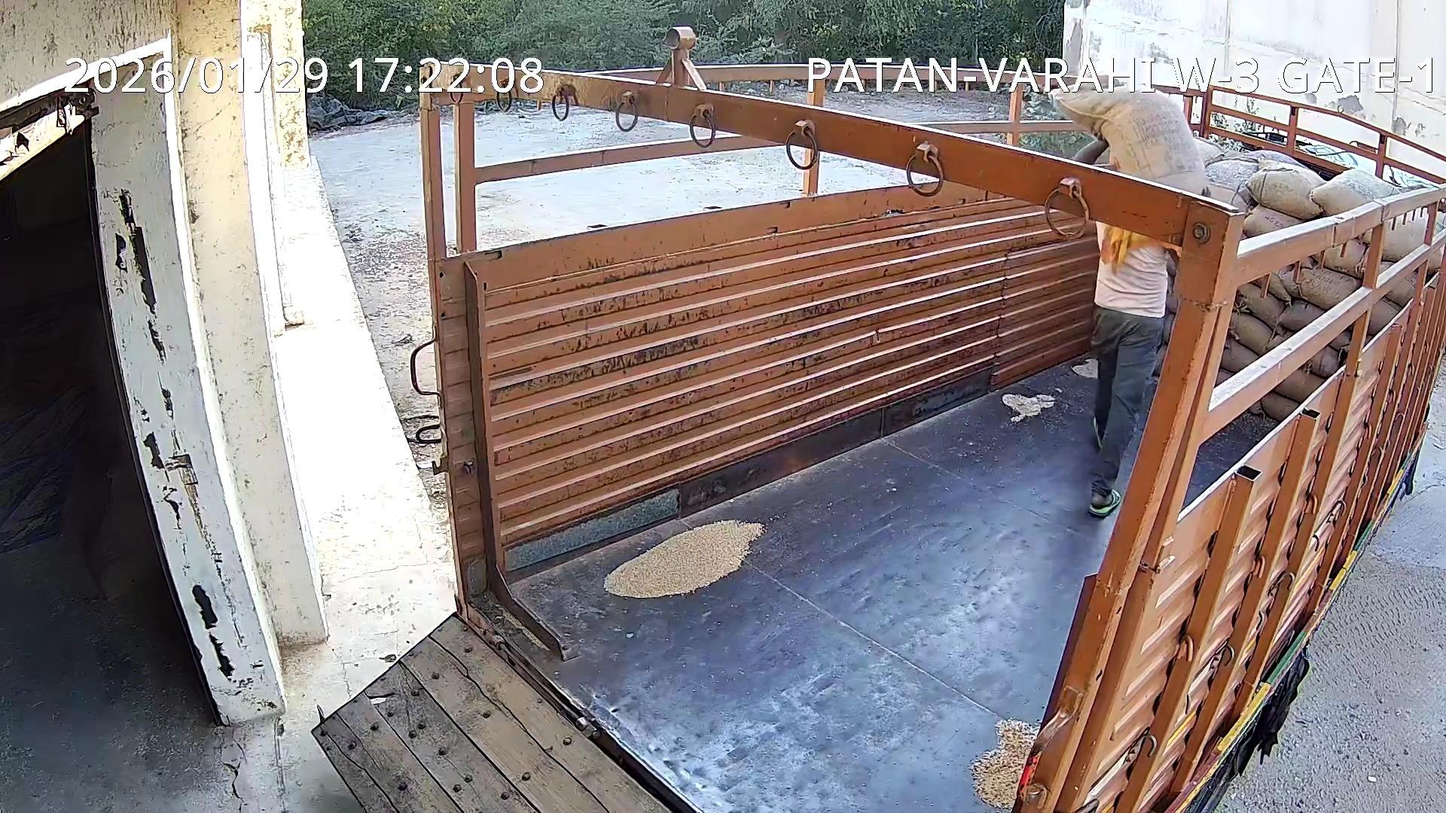Sack: (1052, 86, 1207, 193)
